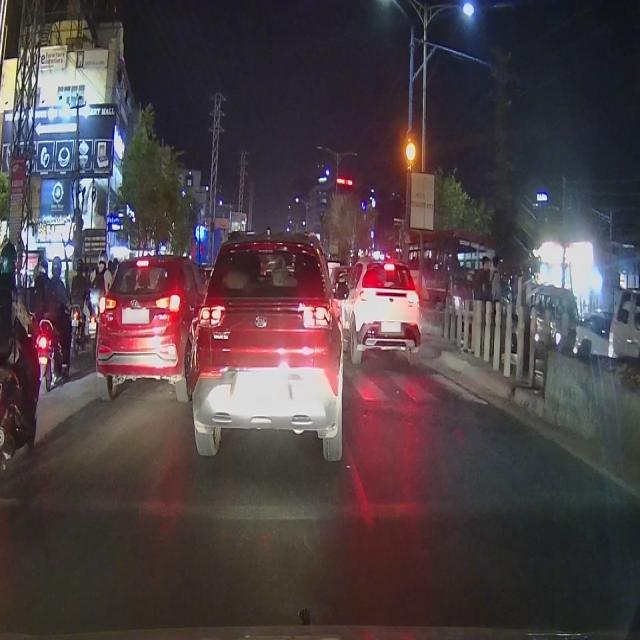car ahead at: (191, 229, 354, 473), (90, 248, 193, 412)
